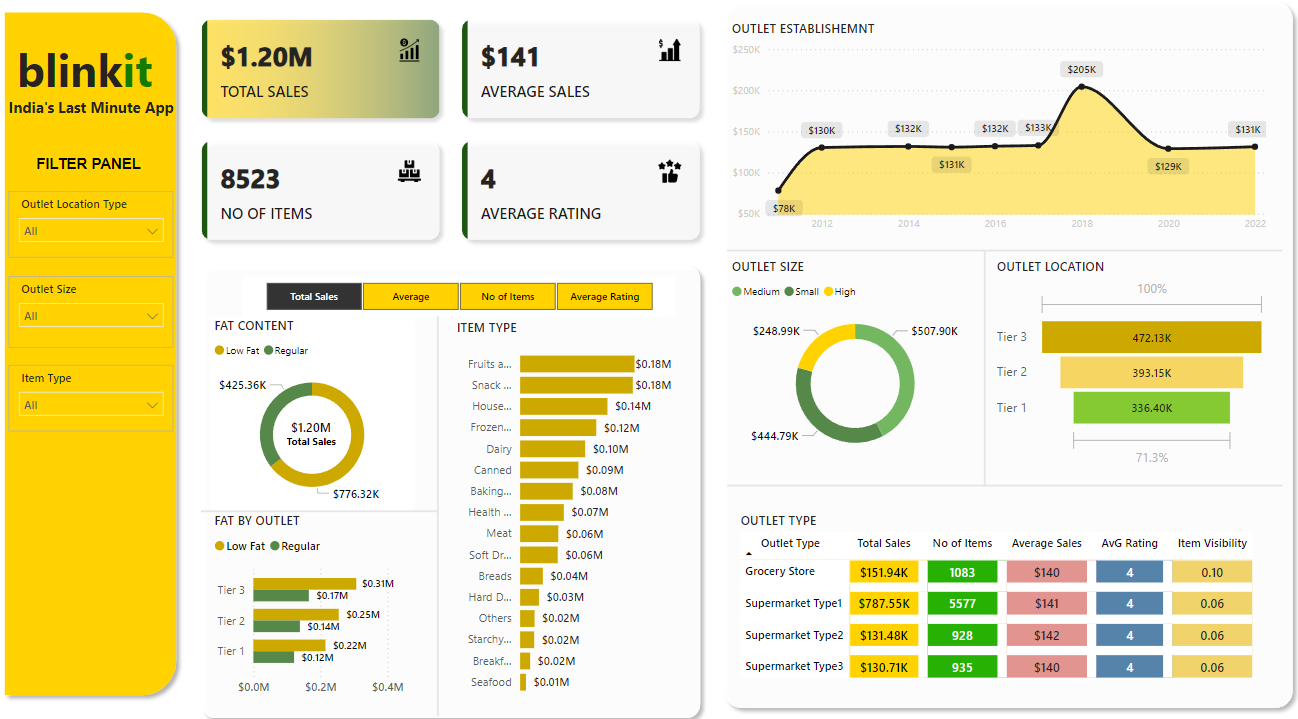

The page's visual inventory and layout, read from the dashboard file:
{"tool":"powerbi","page":{"name":"Page 1","canvas":[1400,800],"ordinal":0},"visuals":[{"type":"shape","box":[0,25.3,202.4,750.6],"z":0},{"type":"textbox","box":[18,57,168.1,81],"z":1000},{"type":"textbox","box":[0,120.1,204.1,76.5],"z":2000},{"type":"cardVisual","fields":{"Data":["BlinkIT Grocery Data.Total Sales","BlinkIT Grocery Data.Average","BlinkIT Grocery Data.No of Items","BlinkIT Grocery Data.Average Rating"]},"box":[204.1,25.5,568.8,270.2],"z":3000},{"type":"shape","box":[211.8,297.6,552.3,502.7],"z":4000},{"type":"clusteredBarChart","title":"FAT BY OUTLET","fields":{"Y":["BlinkIT Grocery Data.Total Sales"],"Category":["BlinkIT Grocery Data.Outlet Location Type"],"Series":["BlinkIT Grocery Data.Item Fat Content"]},"box":[229.2,569.7,219.8,206.4],"z":5000},{"type":"donutChart","title":"FAT CONTENT","fields":{"Y":["BlinkIT Grocery Data.Total Sales"],"Category":["BlinkIT Grocery Data.Item Fat Content"]},"box":[229.2,360.6,219.8,209.1],"z":6000},{"type":"slicer","fields":{"Values":["Metrics.Metrics"]},"box":[264.1,317.7,463.8,42.9],"z":7000},{"type":"cardVisual","fields":{"Data":["BlinkIT Grocery Data.Total Sales"]},"box":[281.5,438.3,113.9,95.2],"z":8000},{"type":"shape","box":[219.8,559,253.4,21.4],"z":9000},{"type":"shape","box":[459.8,360.6,28.2,429],"z":10000},{"type":"barChart","title":"ITEM TYPE","fields":{"Y":["BlinkIT Grocery Data.Total Sales"],"Category":["BlinkIT Grocery Data.Item Type"]},"box":[489.2,362.7,240.4,413.3],"z":11000},{"type":"shape","box":[772.1,14.7,627.3,774.8],"z":12000},{"type":"lineChart","title":"OUTLET ESTABLISHEMNT","fields":{"Y":["BlinkIT Grocery Data.Total Sales"],"Category":["BlinkIT Grocery Data.Outlet Establishment Year"]},"box":[784.2,42.9,583.1,235.9],"z":13000},{"type":"shape","box":[784.2,282.8,595.2,14.7],"z":14000},{"type":"donutChart","title":"OUTLET SIZE","fields":{"Y":["BlinkIT Grocery Data.Total Sales"],"Category":["BlinkIT Grocery Data.Outlet Size"]},"box":[784.2,297.6,274.8,225.2],"z":15000},{"type":"shape","box":[1044.2,289.5,32.2,253.4],"z":16000},{"type":"funnel","title":"OUTLET LOCATION","fields":{"Y":["Sum(BlinkIT Grocery Data.Sales)"],"Category":["BlinkIT Grocery Data.Outlet Location Type"]},"box":[1068.4,297.6,298.9,229.2],"z":17000},{"type":"shape","box":[784.2,534.9,595.2,14.7],"z":17001},{"type":"pivotTable","title":"OUTLET TYPE","fields":{"Rows":["BlinkIT Grocery Data.Outlet Type"],"Values":["BlinkIT Grocery Data.Total Sales","BlinkIT Grocery Data.No of Items","BlinkIT Grocery Data.Average","BlinkIT Grocery Data.Average Rating","Avg(BlinkIT Grocery Data.Item Visibility)"]},"box":[793.6,569.7,565.7,206.4],"z":17002},{"type":"slicer","fields":{"Values":["BlinkIT Grocery Data.Outlet Location Type"]},"box":[13.4,226.5,176.9,71],"z":17003},{"type":"slicer","fields":{"Values":["BlinkIT Grocery Data.Outlet Size"]},"box":[13.4,317.7,176.9,76.4],"z":17004},{"type":"slicer","fields":{"Values":["BlinkIT Grocery Data.Item Type"]},"box":[13.4,412.9,176.9,71],"z":17005},{"type":"textbox","box":[13.4,183.6,171.6,33.5],"z":17006}]}

Visuals, with their boxes on the page's 1400x800 design canvas (x1, y1, x2, y2). These are canvas units, not pixel positions in the 1298x719 screenshot, which may show the page scaled, cropped or inside an application window:
shape: {"left": 0, "top": 25, "right": 202, "bottom": 776}
textbox: {"left": 18, "top": 57, "right": 186, "bottom": 138}
textbox: {"left": 0, "top": 120, "right": 204, "bottom": 197}
cardVisual - BlinkIT Grocery Data.Total Sales x BlinkIT Grocery Data.Average: {"left": 204, "top": 26, "right": 773, "bottom": 296}
shape: {"left": 212, "top": 298, "right": 764, "bottom": 800}
"FAT BY OUTLET" clusteredBarChart: {"left": 229, "top": 570, "right": 449, "bottom": 776}
"FAT CONTENT" donutChart: {"left": 229, "top": 361, "right": 449, "bottom": 570}
slicer - Metrics.Metrics: {"left": 264, "top": 318, "right": 728, "bottom": 361}
cardVisual - BlinkIT Grocery Data.Total Sales: {"left": 282, "top": 438, "right": 395, "bottom": 534}
shape: {"left": 220, "top": 559, "right": 473, "bottom": 580}
shape: {"left": 460, "top": 361, "right": 488, "bottom": 790}
"ITEM TYPE" barChart: {"left": 489, "top": 363, "right": 730, "bottom": 776}
shape: {"left": 772, "top": 15, "right": 1399, "bottom": 790}
"OUTLET ESTABLISHEMNT" lineChart: {"left": 784, "top": 43, "right": 1367, "bottom": 279}
shape: {"left": 784, "top": 283, "right": 1379, "bottom": 298}
"OUTLET SIZE" donutChart: {"left": 784, "top": 298, "right": 1059, "bottom": 523}
shape: {"left": 1044, "top": 290, "right": 1076, "bottom": 543}
"OUTLET LOCATION" funnel: {"left": 1068, "top": 298, "right": 1367, "bottom": 527}
shape: {"left": 784, "top": 535, "right": 1379, "bottom": 550}
"OUTLET TYPE" pivotTable: {"left": 794, "top": 570, "right": 1359, "bottom": 776}
slicer - BlinkIT Grocery Data.Outlet Location Type: {"left": 13, "top": 226, "right": 190, "bottom": 298}
slicer - BlinkIT Grocery Data.Outlet Size: {"left": 13, "top": 318, "right": 190, "bottom": 394}
slicer - BlinkIT Grocery Data.Item Type: {"left": 13, "top": 413, "right": 190, "bottom": 484}
textbox: {"left": 13, "top": 184, "right": 185, "bottom": 217}
